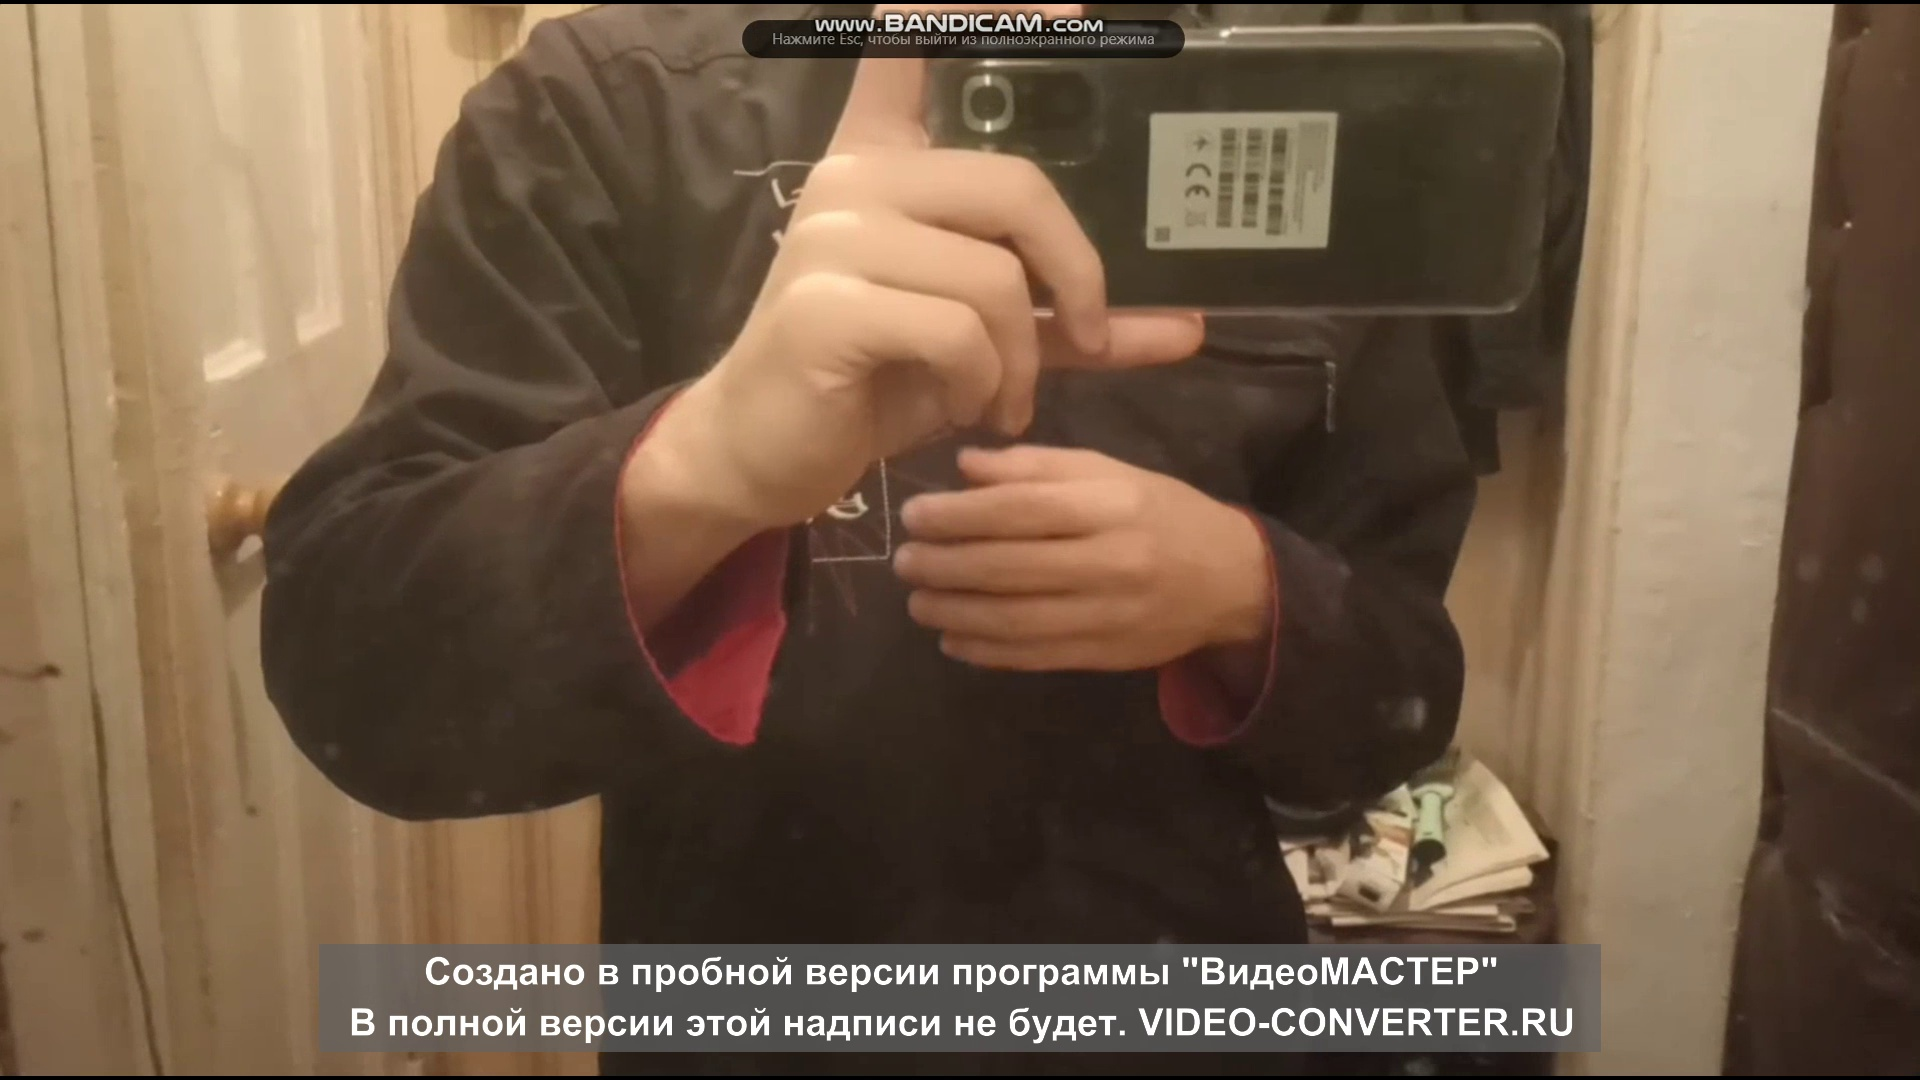Кисть: (894, 443, 1255, 671)
